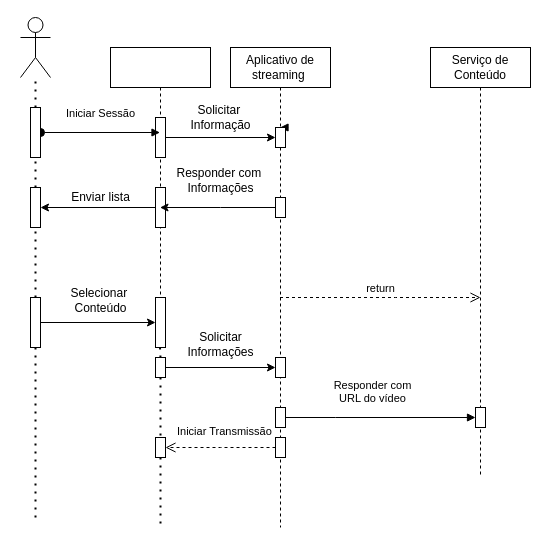
Image size: 548x547. Some labels were removed from this diagram. Each missing label, with the centre of its shape:
"Cliente" goes at (x=35, y=47).
"Dispositivo do usuário" goes at (x=160, y=197).
